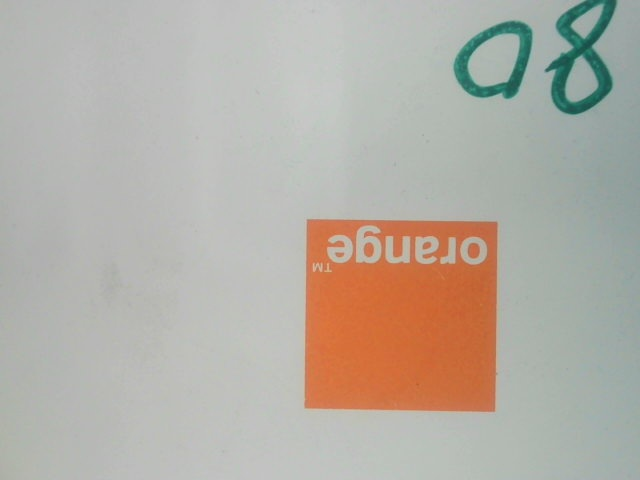AR_Orange: (281, 202, 512, 418)
